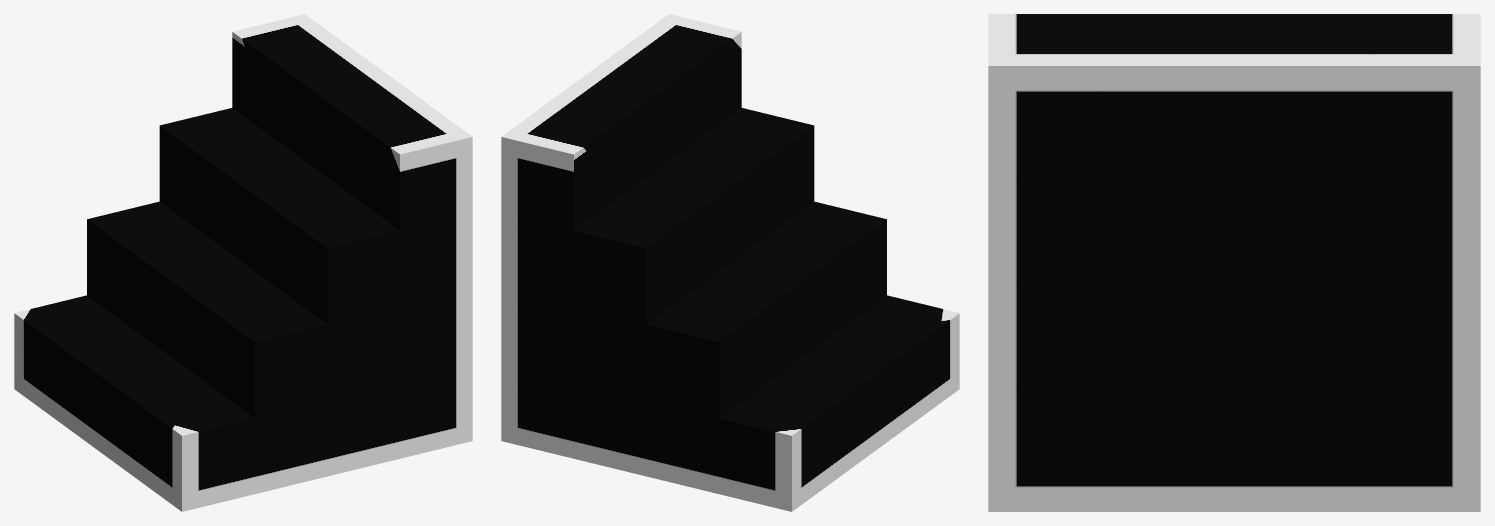
Rendered from Frid_Stair.fbx.
3 views of the same model, side by side, from view 1: azimuth 30°, elevation 25°; view 2: azimuth 150°, elevation 25°; view 3: azimuth 270°, elevation 25° (orthographic). The views are drawn at different scales.
Parts seen in each view (by area): view 1: Cube; view 2: Cube; view 3: Cube.
Part boxes in pixels (x1,y1,x2,y2): Cube: (14, 14, 472, 511); Cube: (501, 14, 959, 511); Cube: (988, 14, 1480, 511).
Size of the model in its own units: 750 by 750 by 750.
1 material, 1 textured.
